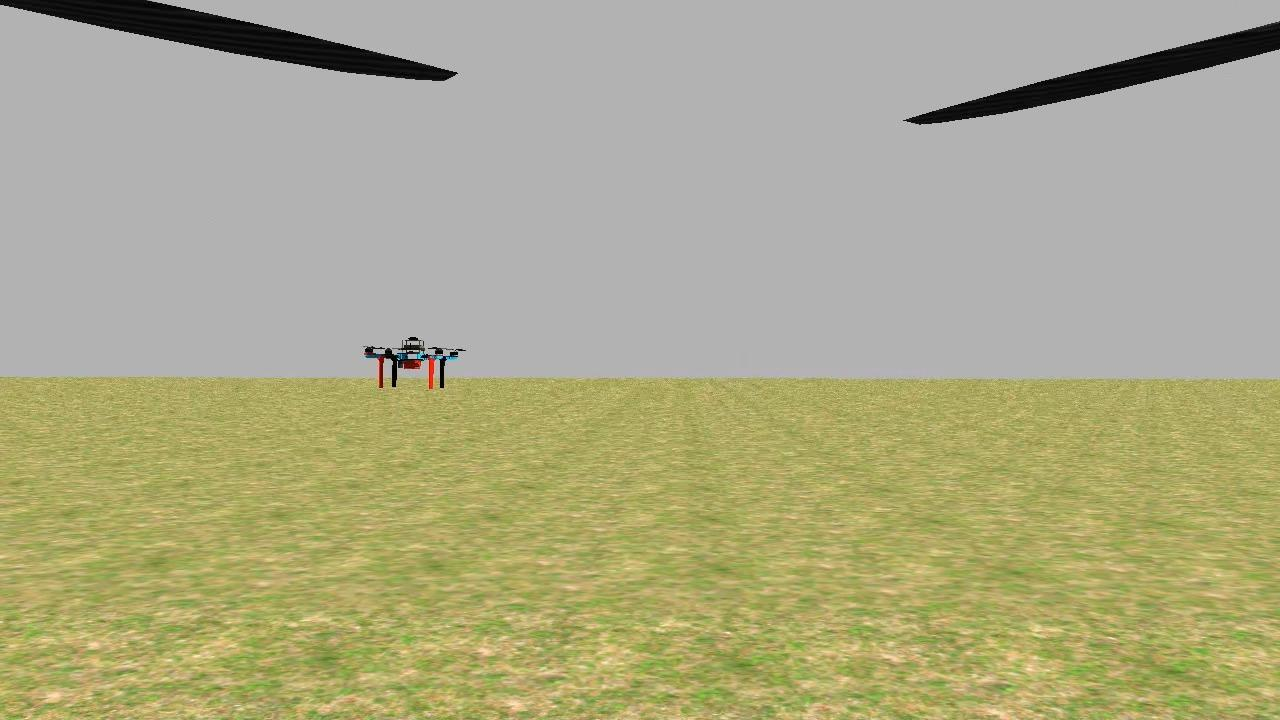UAV: (345, 330, 466, 391)
